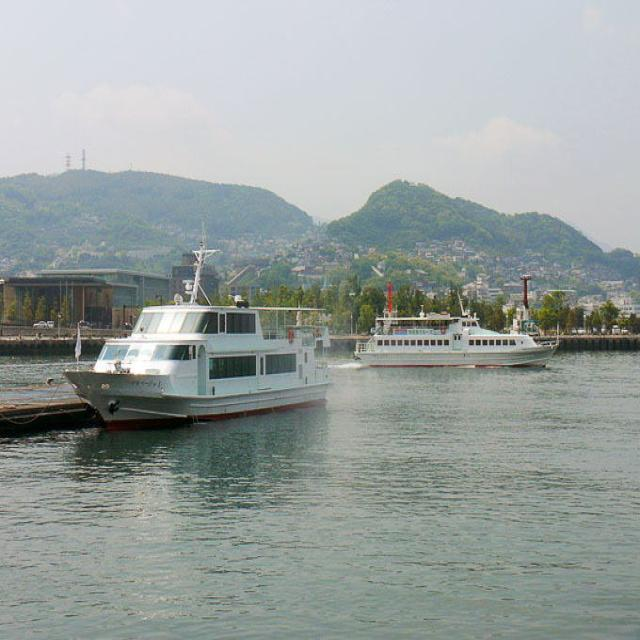houseboat: (80, 271, 316, 391), (360, 303, 550, 387)
